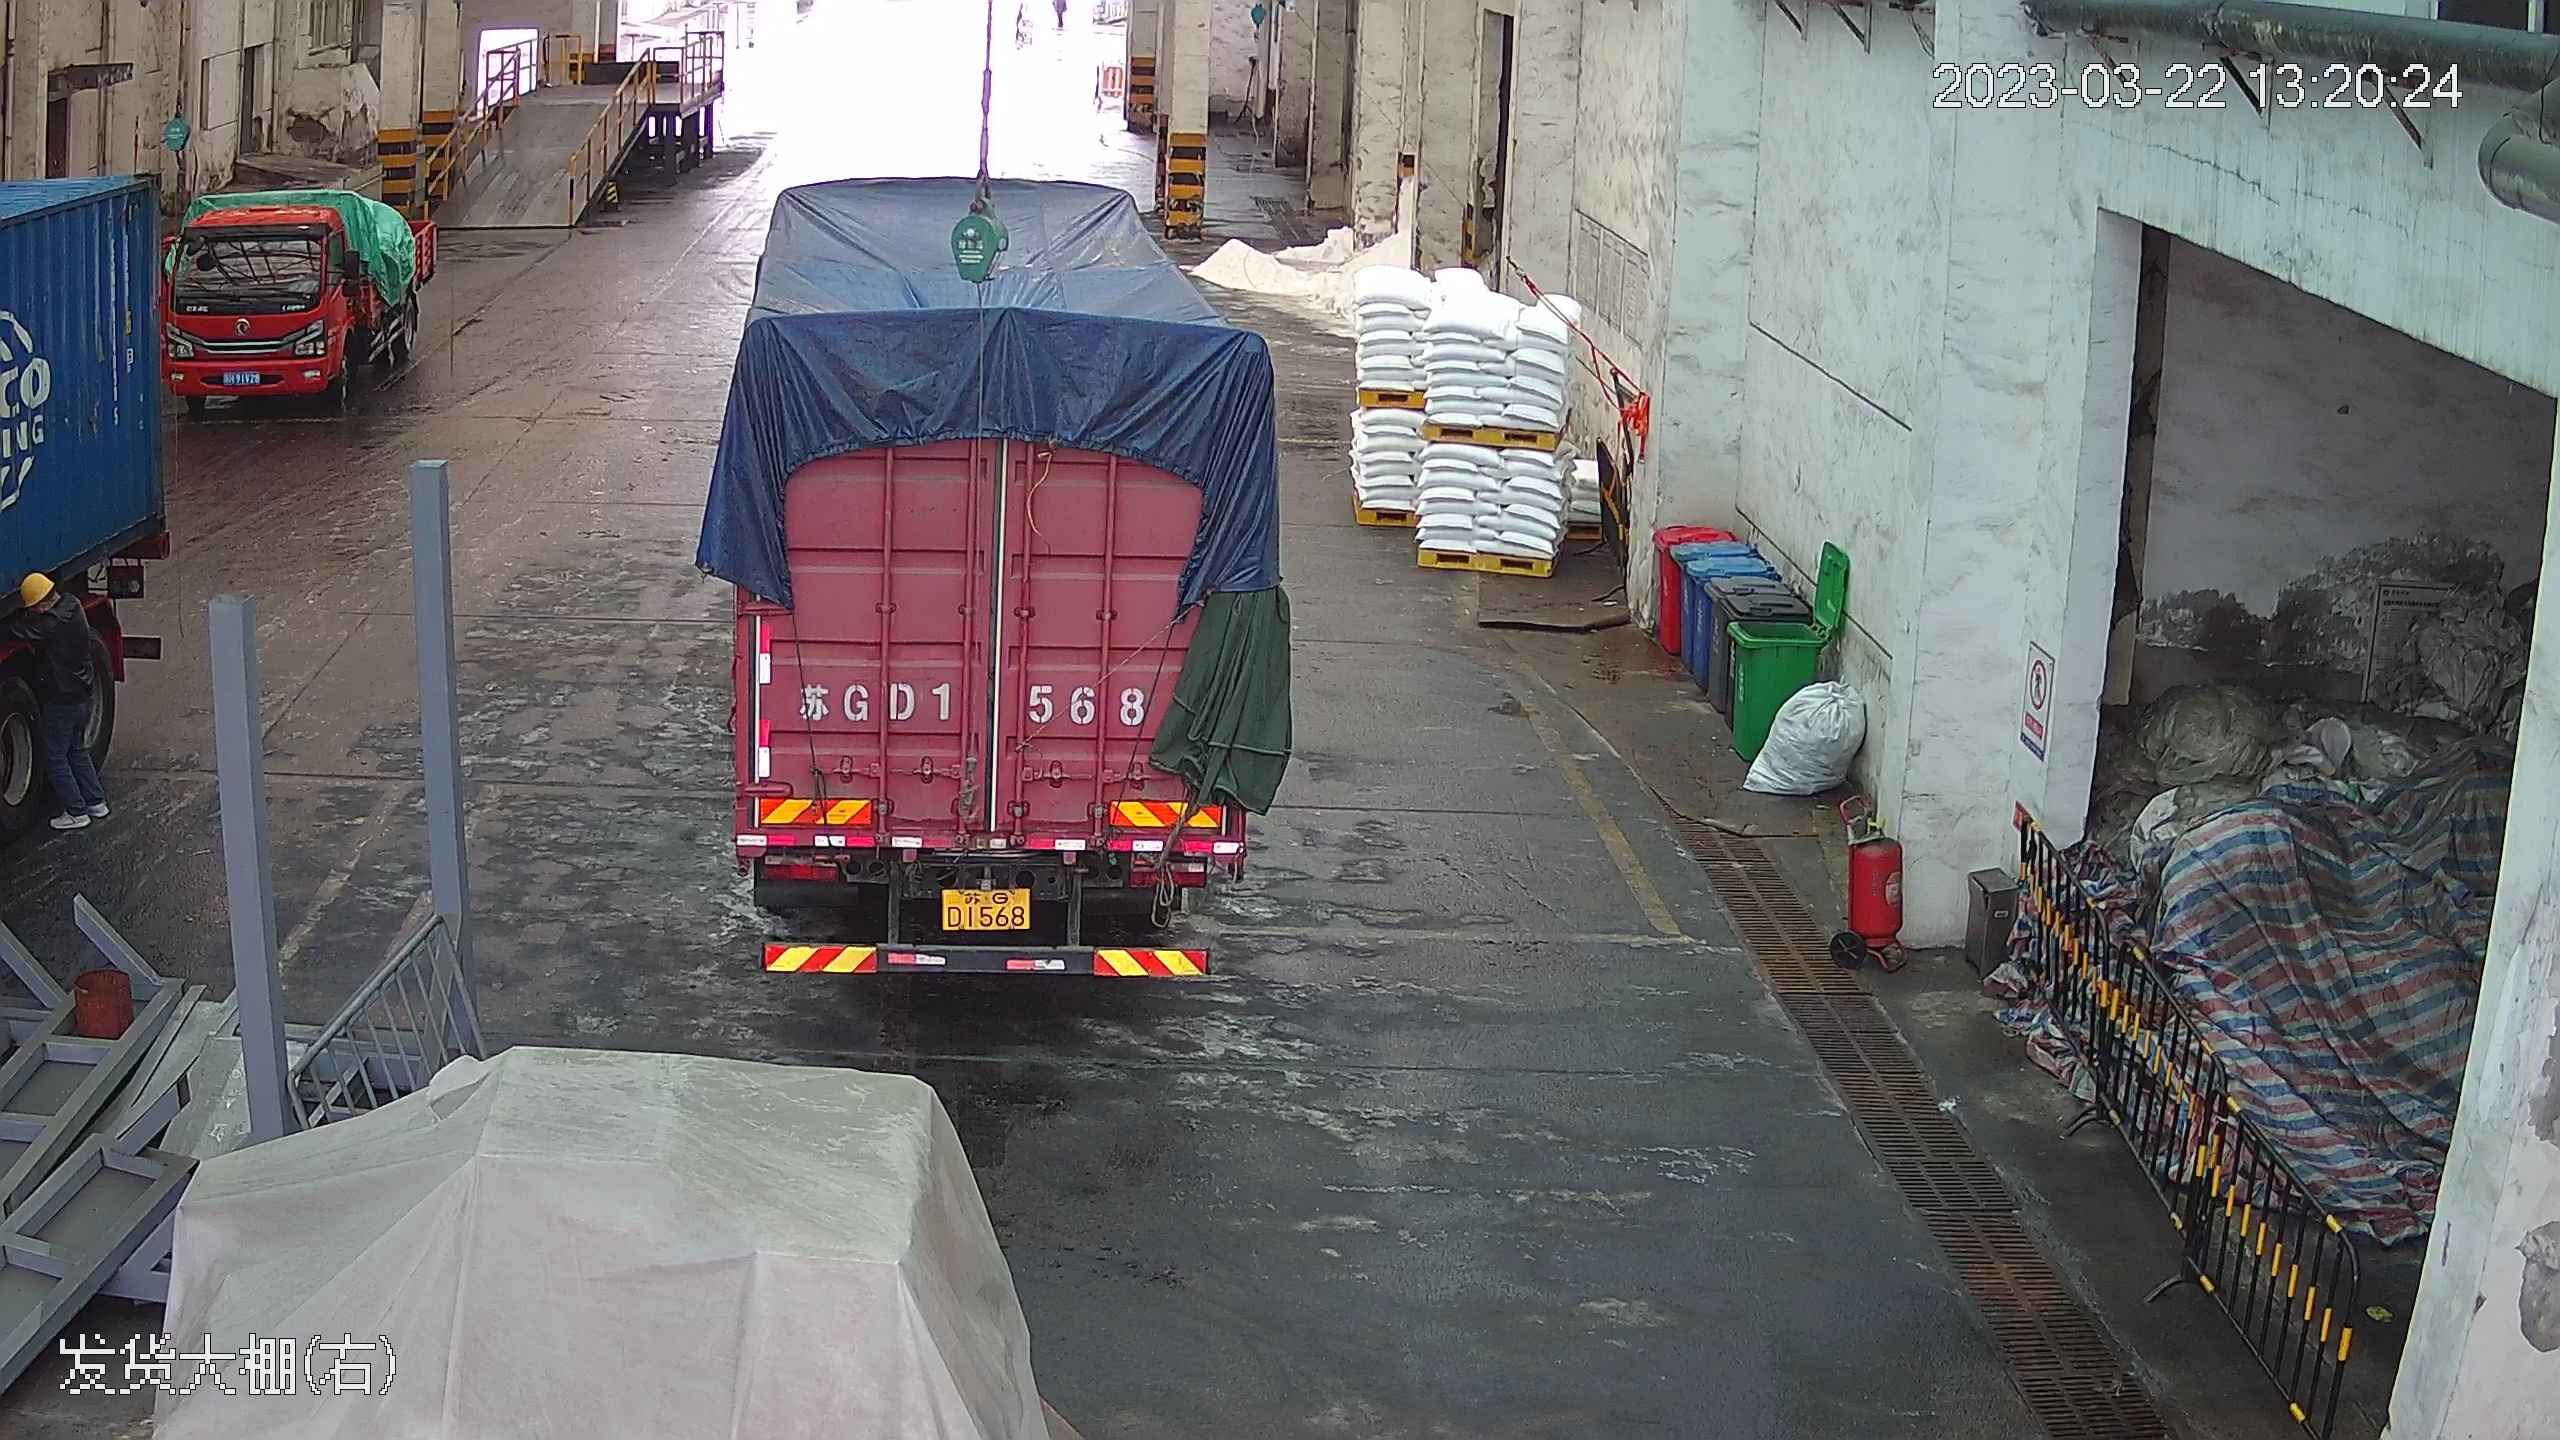head: (10, 567, 91, 646)
helmet: (12, 567, 57, 603)
people: (3, 568, 119, 819)
truck: (696, 105, 1295, 992), (0, 17, 224, 1268), (149, 190, 434, 409)
